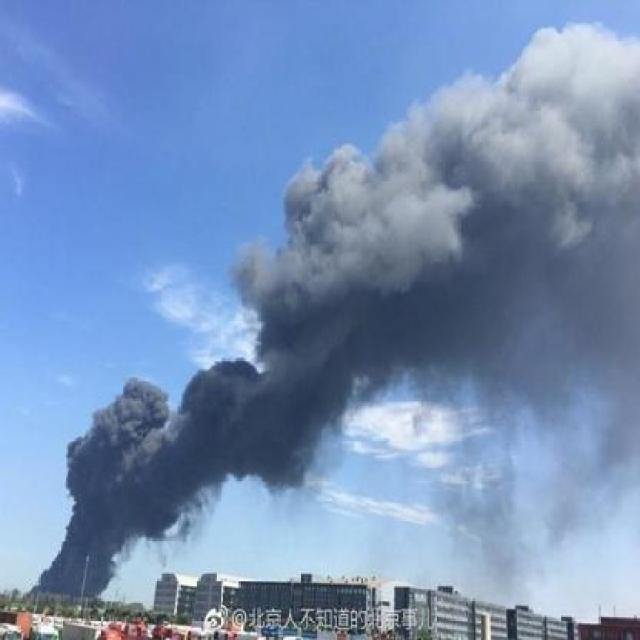Smoke: (248, 6, 640, 572), (41, 345, 173, 602), (180, 352, 248, 532)
